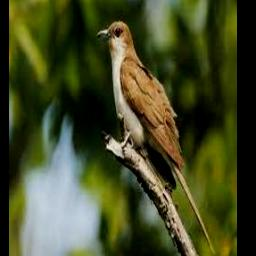Cuckoo: (96, 20, 214, 254)
